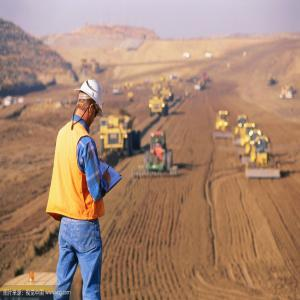white: (72, 73, 106, 129)
